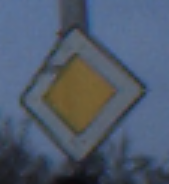yellow: (18, 23, 148, 165)
